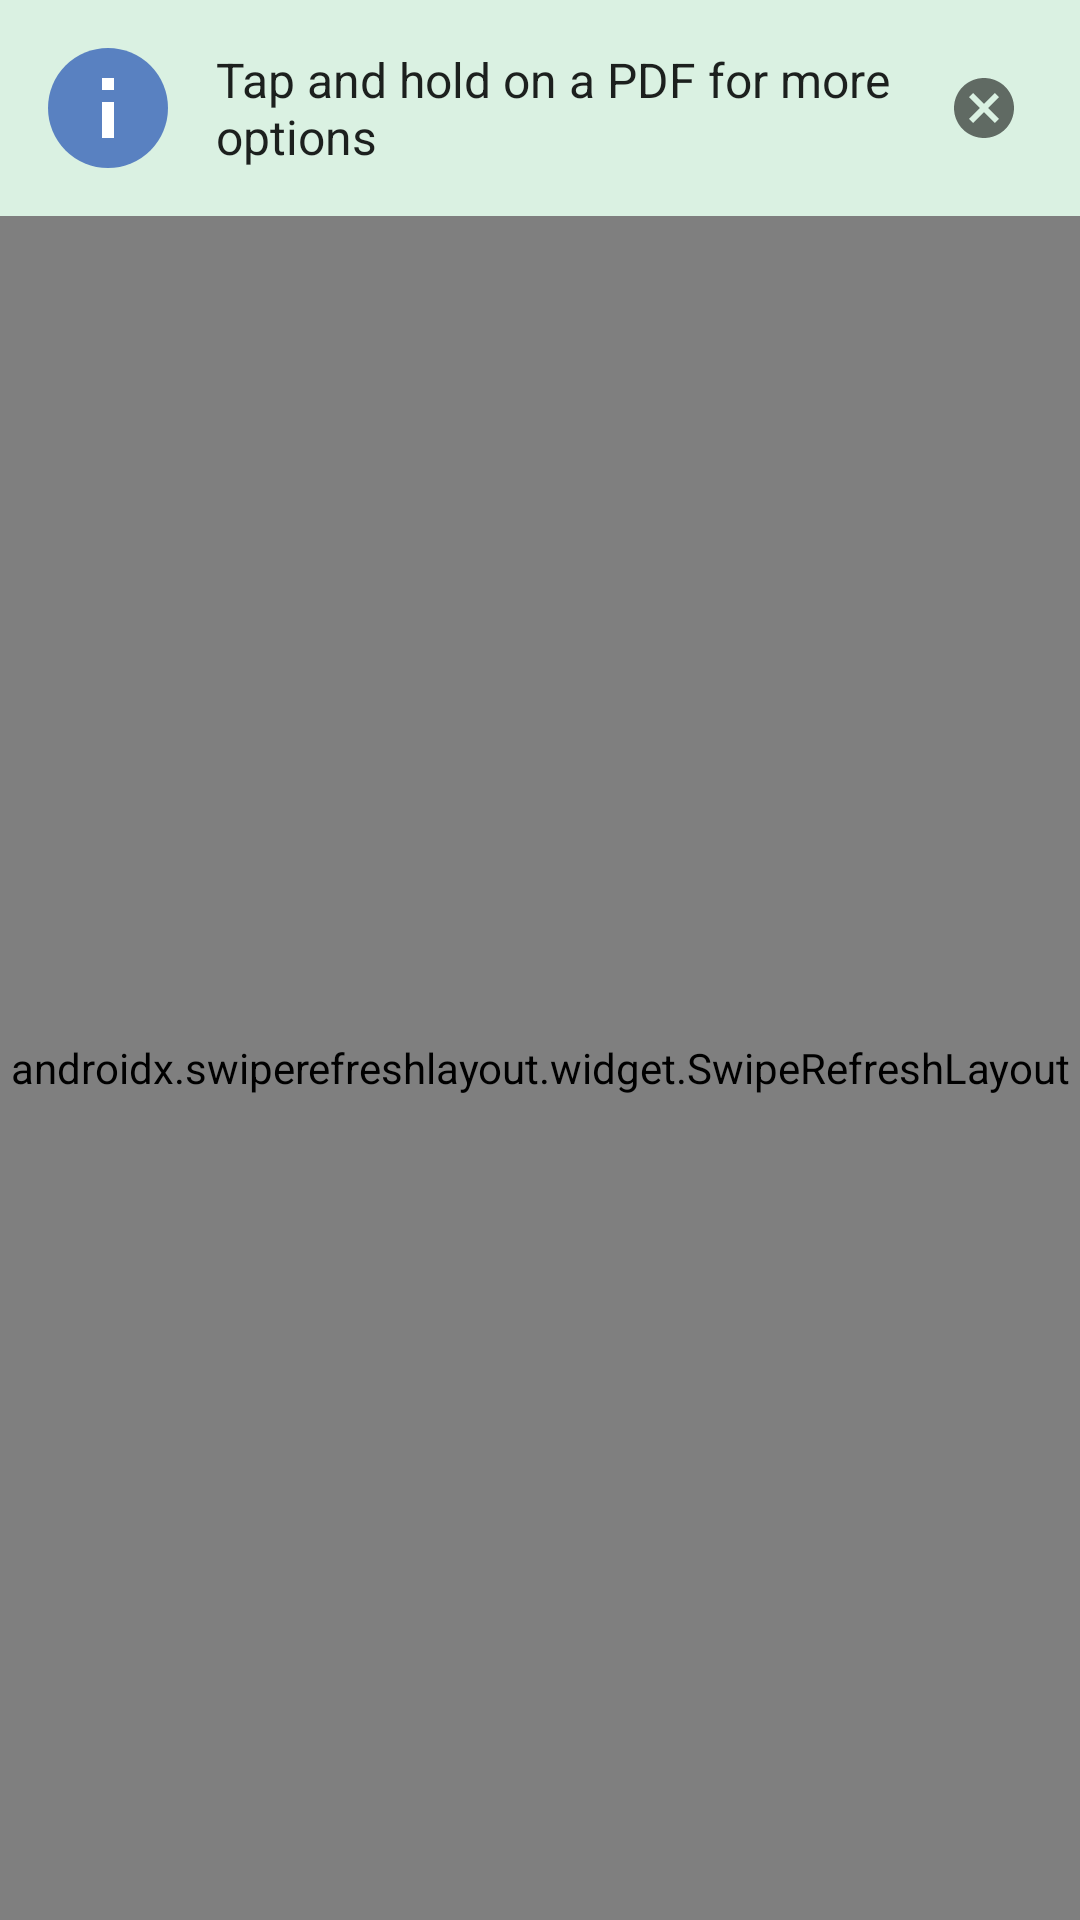

Named icons in this screenshot (1080px×1920px) and their bounding boxes, [x1=x1, y1=y1, x2=x2, y2=y2]:
cancel: [x1=954, y1=78, x2=1014, y2=138]
info: [x1=48, y1=48, x2=168, y2=168]
